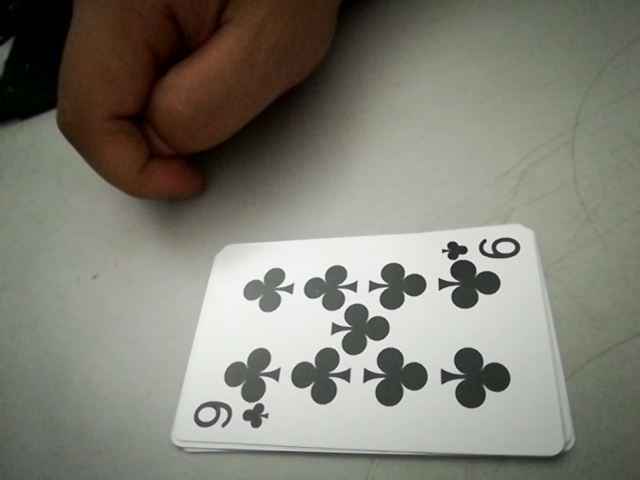mh 9: (182, 395, 272, 440), (445, 230, 527, 266)
